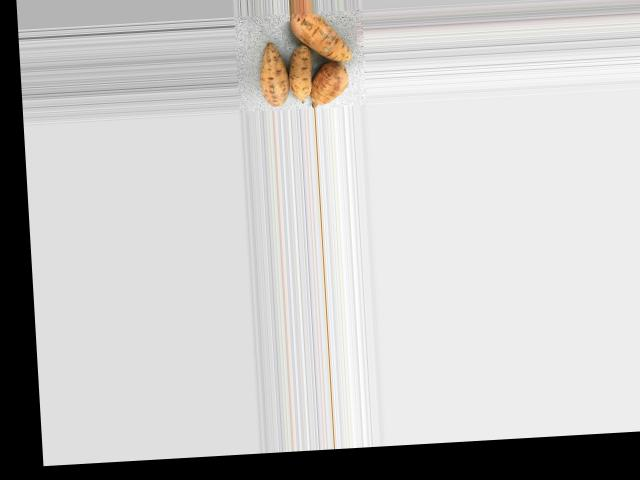sweet_potato: (282, 9, 357, 64)
